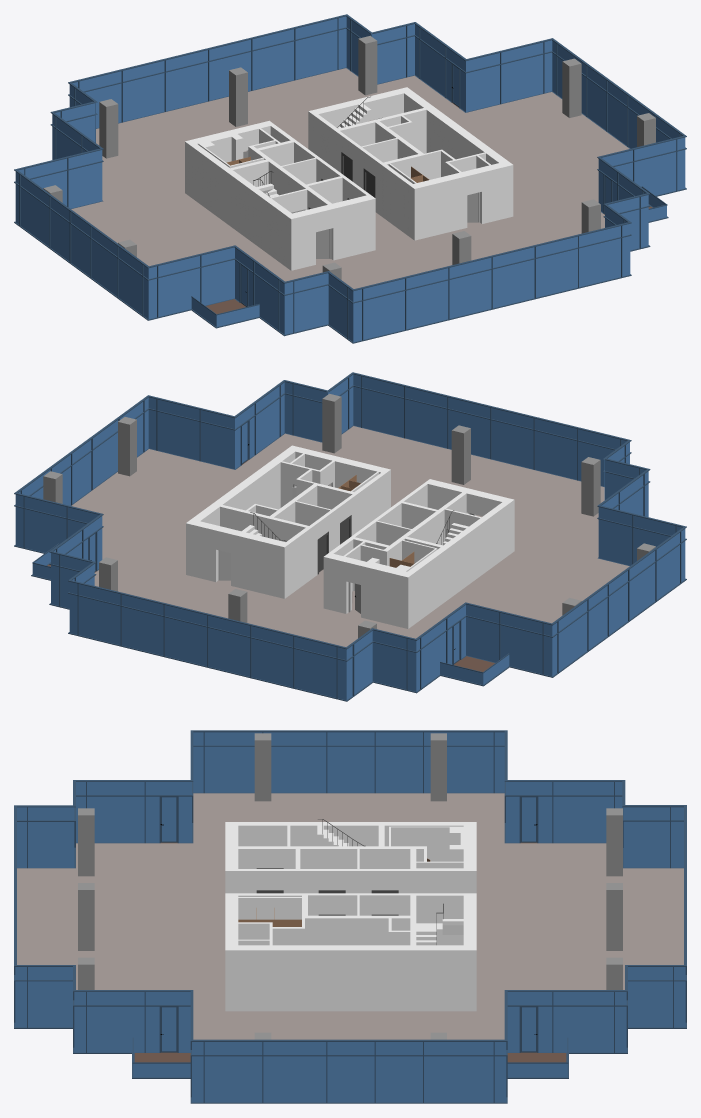
Rendered from Floor plan 25.glb.
3 renders of one model, top to bottom at view 1: azimuth 30°, elevation 25°; view 2: azimuth 150°, elevation 25°; view 3: azimuth 270°, elevation 25°, orthographic. The views are drawn at different scales.
Visible parts, largest first — view 1: Box4108, Box17172; view 2: Box4108, Box17172; view 3: Box4108, Box17172.
Boxes of the visible parts, x1,y1,x2,y2 form: Box4108: [14, 14, 686, 343]; Box17172: [185, 87, 513, 270]; Box4108: [14, 372, 686, 701]; Box17172: [186, 445, 514, 628]; Box4108: [14, 730, 686, 1103]; Box17172: [225, 819, 476, 1011].
Bounding box in the file's own units: 38.04 × 4.42 × 34.81.
